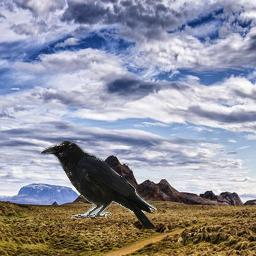Crow: (40, 140, 157, 230)
